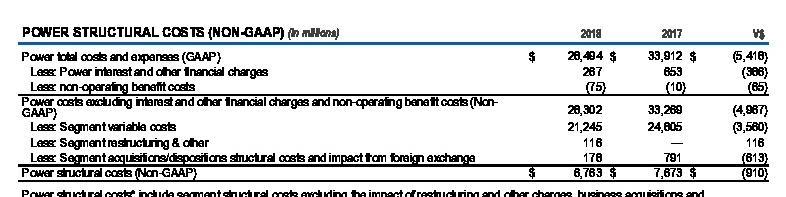table: (0, 0, 786, 197)
